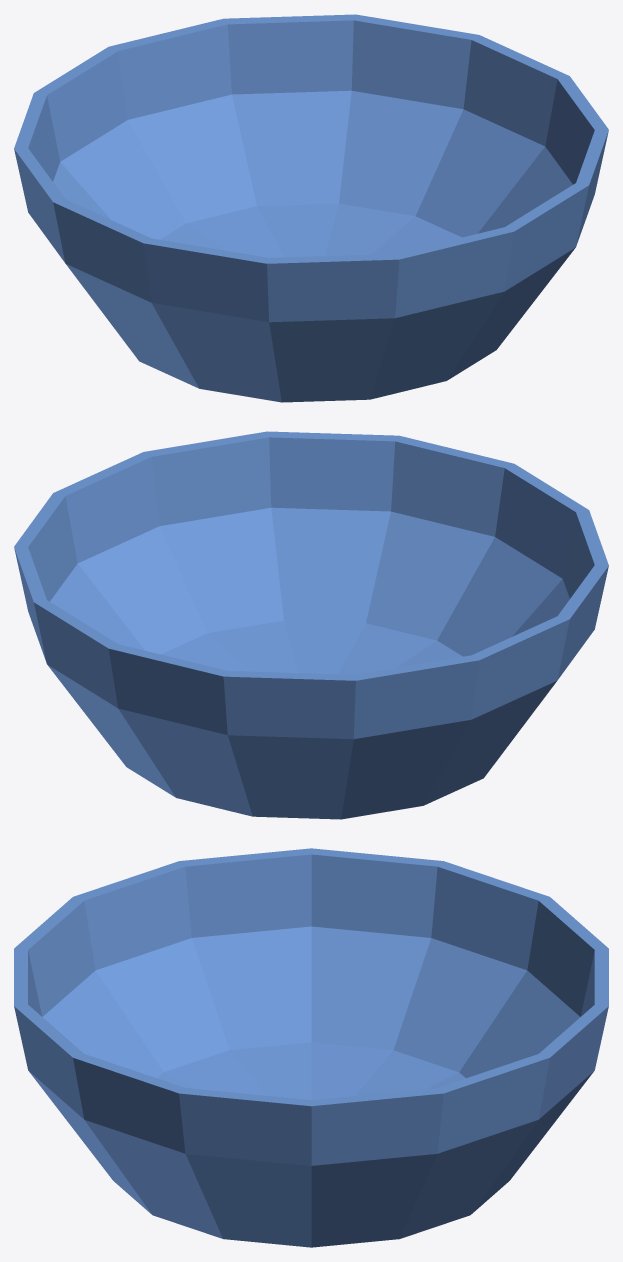
The model's file is mixing-bowl.glb.
3 views of the same model, one above another, from view 1: azimuth 30°, elevation 25°; view 2: azimuth 150°, elevation 25°; view 3: azimuth 270°, elevation 25° (orthographic). The views are drawn at different scales.
Visible parts, largest first — view 1: mixing-bowl; view 2: mixing-bowl; view 3: mixing-bowl.
Boxes of the visible parts, x1,y1,x2,y2 form: mixing-bowl: (14,14,608,402); mixing-bowl: (14,431,608,819); mixing-bowl: (14,848,608,1247).
Bounding box in the file's own units: 0.42 × 0.17 × 0.4095.
1 material, 1 textured.
